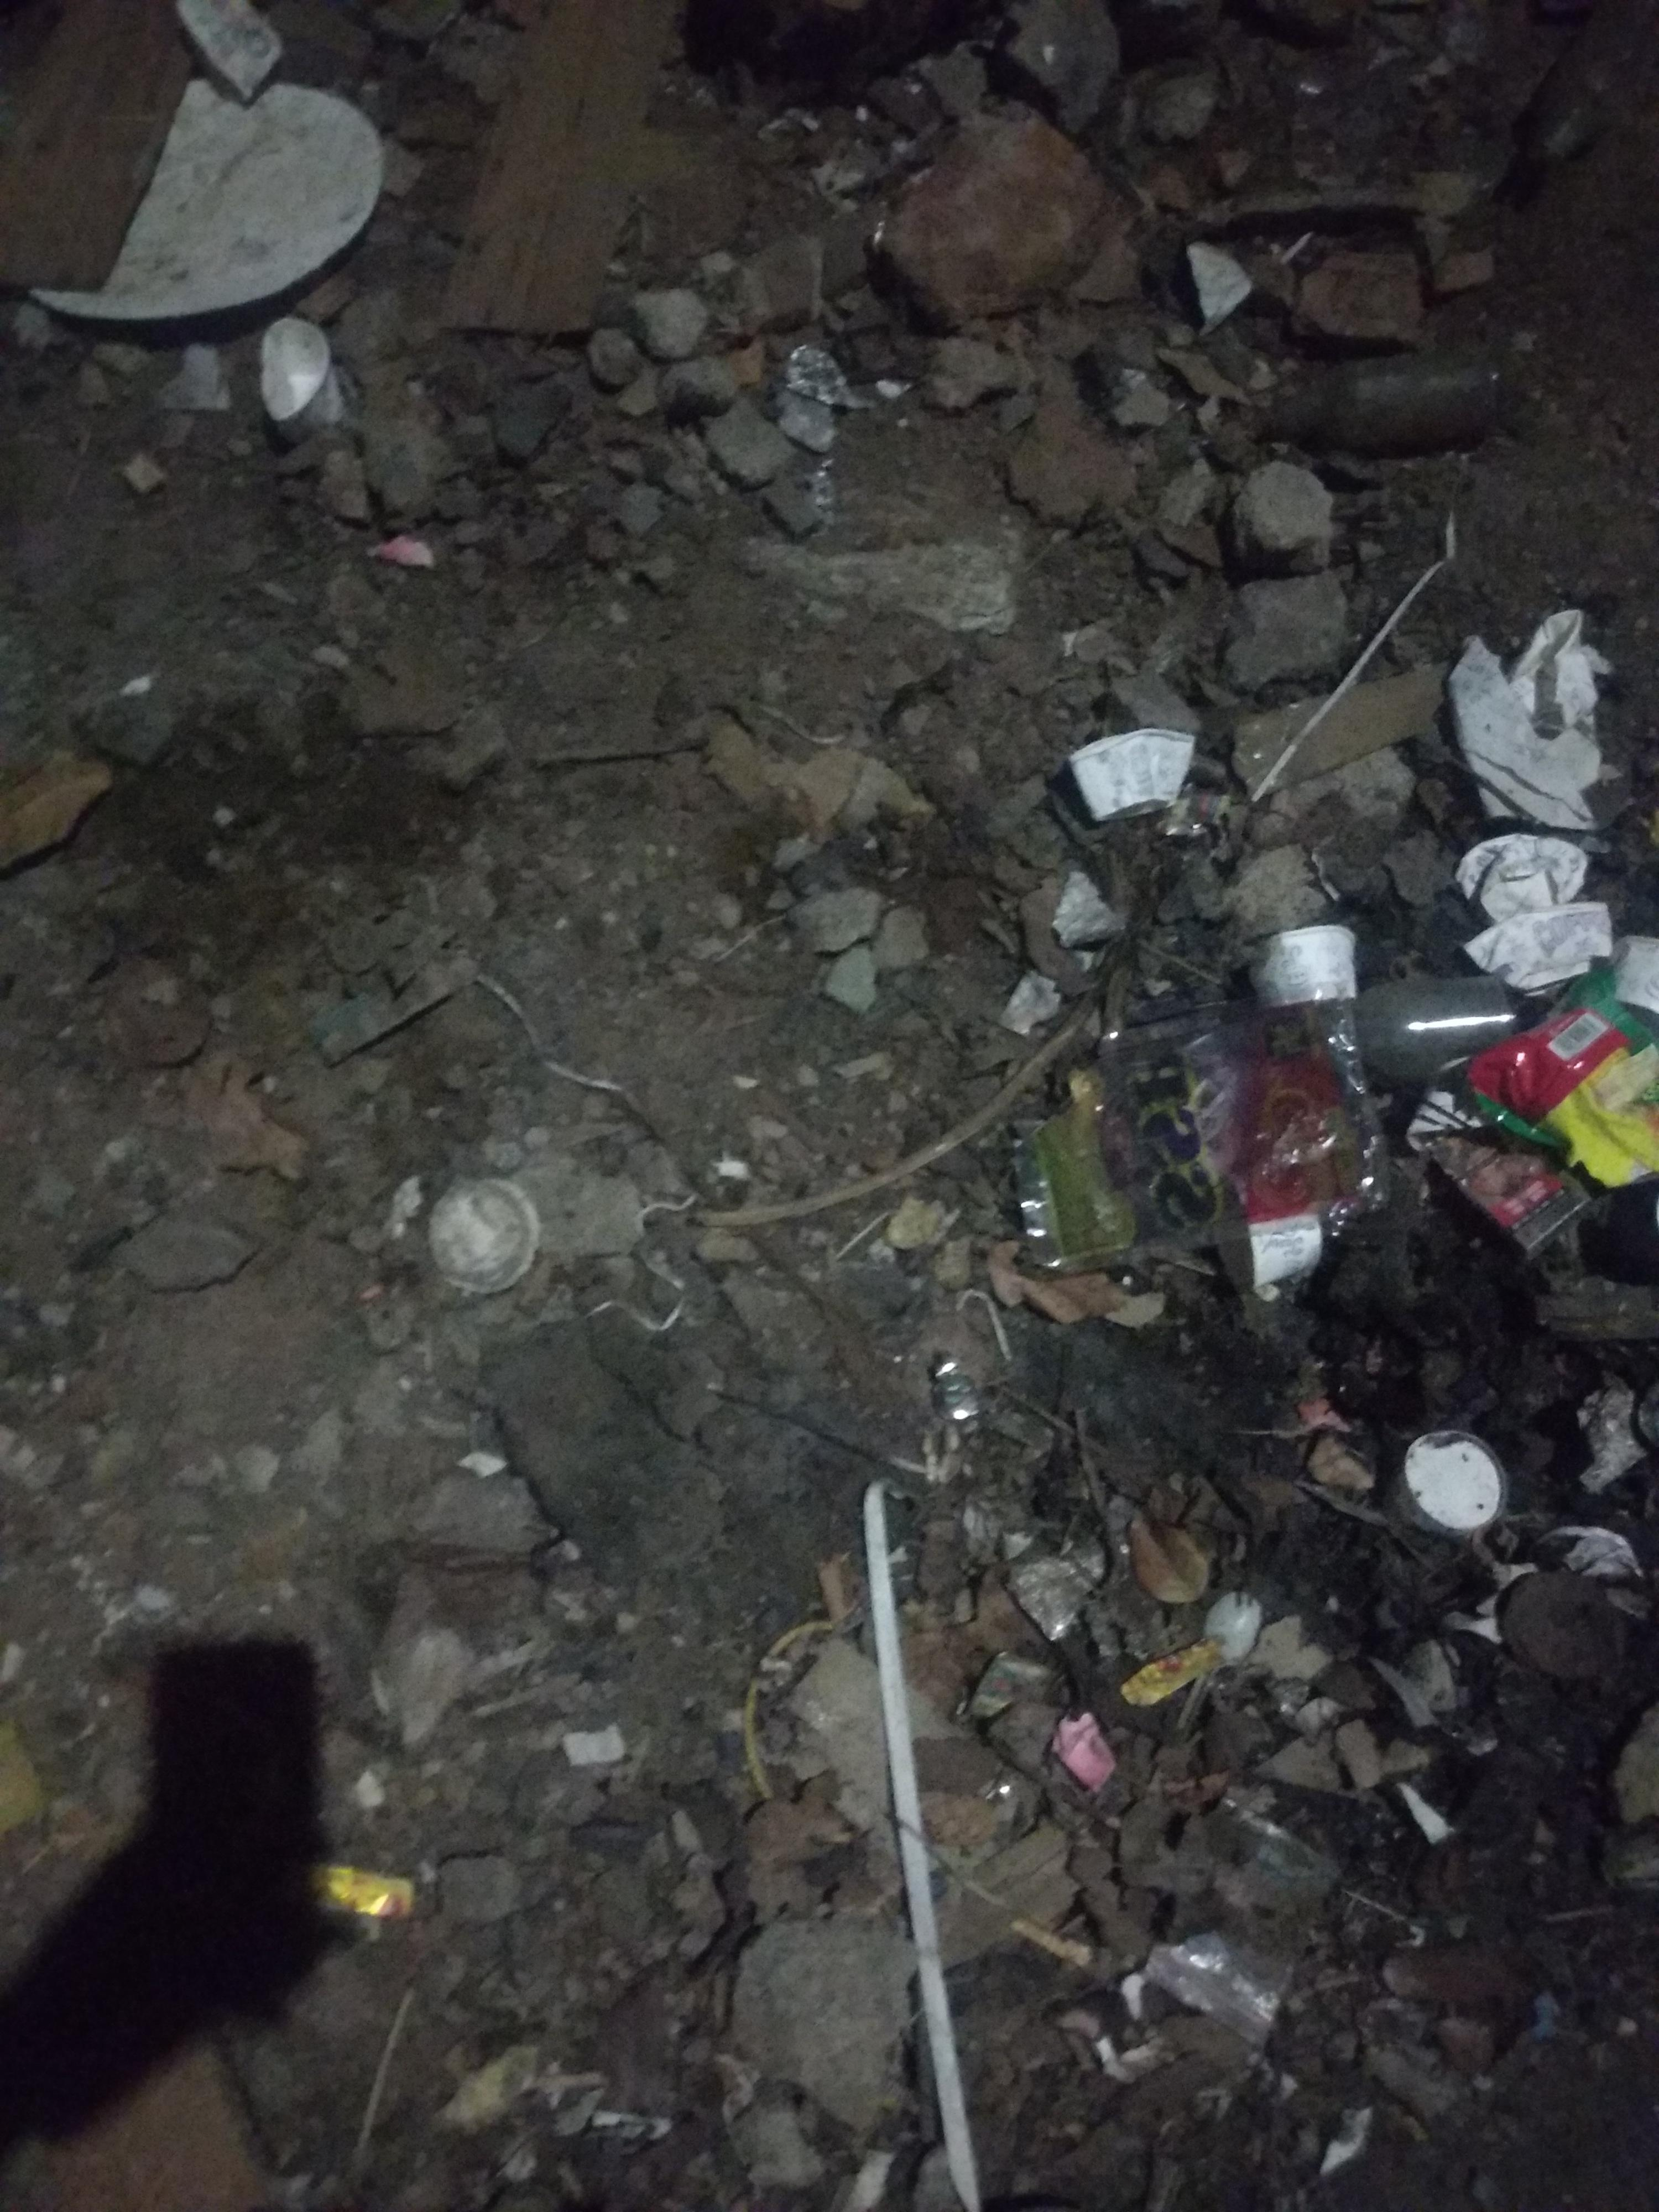organic: (997, 561, 1659, 1559)
